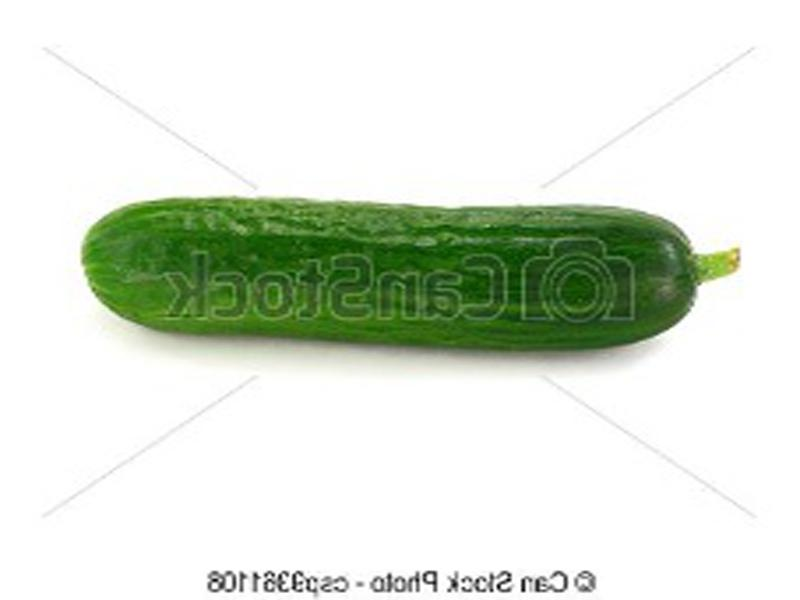Cucumber: (77, 198, 743, 352)
